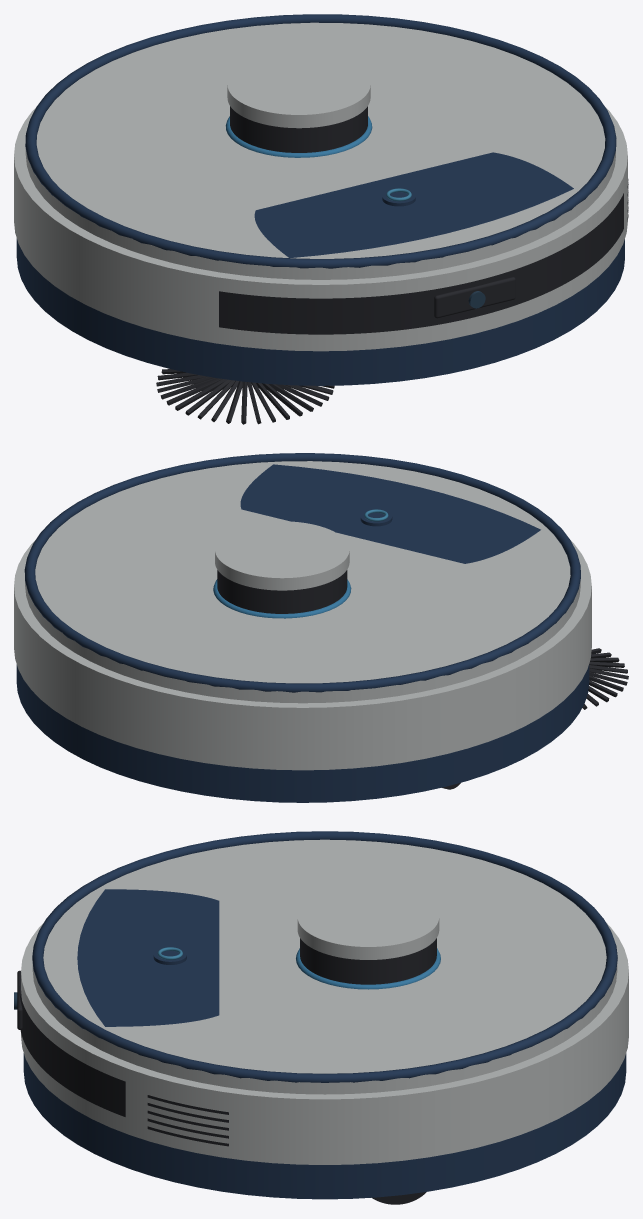
Rendered from robots-34.glb.
3 renders of one model, top to bottom at view 1: azimuth 30°, elevation 25°; view 2: azimuth 150°, elevation 25°; view 3: azimuth 270°, elevation 25°, orthographic. The views are drawn at different scales.
Parts seen in each view (by area): view 1: lid, bumper, skirt, fascia, window, scanner, brush; view 2: lid, bumper, skirt, fascia, scanner, brush; view 3: lid, bumper, skirt, fascia, scanner, window, vents.
Boxes of the visible parts, x1,y1,x2,y2 form: lid: (25,14,616,279); bumper: (14,107,627,351); skirt: (16,238,624,385); fascia: (254,152,573,257); window: (219,193,623,334); scanner: (225,54,372,157); brush: (156,369,334,424); lid: (24,453,580,703); bumper: (14,540,591,770); skirt: (16,664,589,802); fascia: (240,464,540,563); scanner: (213,521,351,618); brush: (582,648,628,709); lid: (32,831,617,1094); bumper: (21,922,628,1164); skirt: (23,1053,626,1199); fascia: (77,889,219,1026); scanner: (296,887,440,989); window: (14,970,125,1116); vents: (147,1095,228,1146).
Size of the model in its own units: 2.24 by 0.7775 by 2.27.
